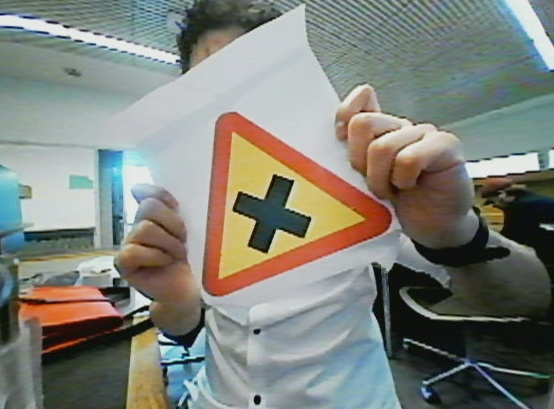junction: (203, 99, 400, 294)
